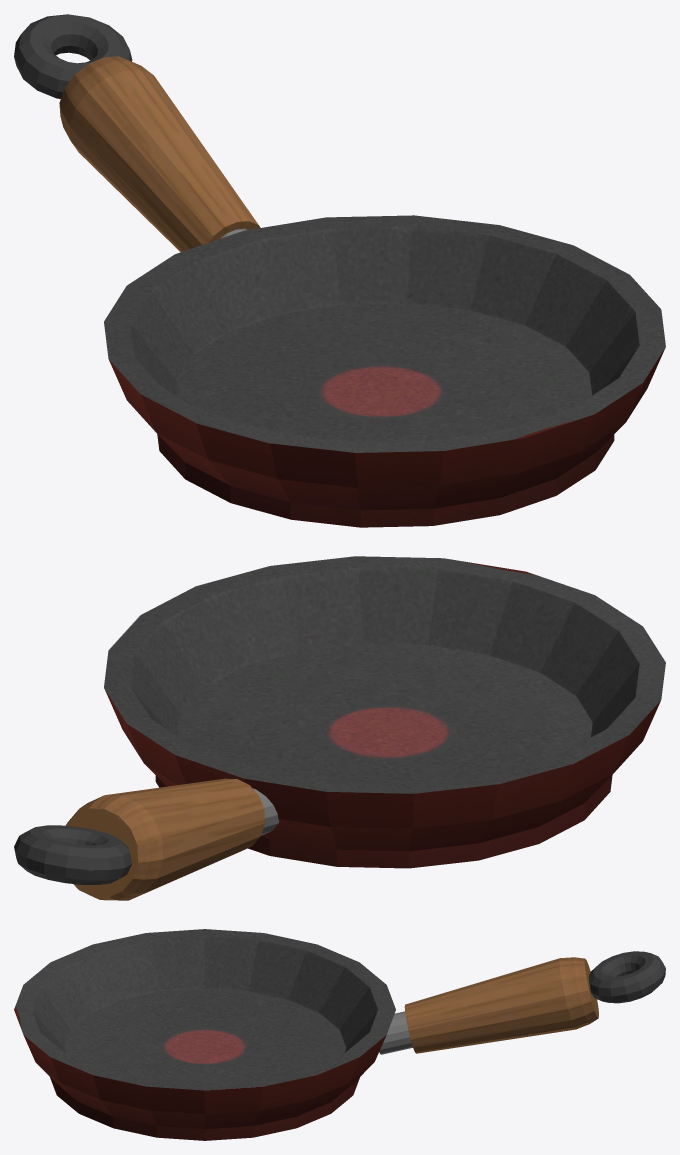
The model's file is FryingPan.obj.
3 views of the same model, one above another, from view 1: azimuth 30°, elevation 25°; view 2: azimuth 150°, elevation 25°; view 3: azimuth 270°, elevation 25° (orthographic). The views are drawn at different scales.
Parts seen in each view (by area): view 1: FryingPan_ncl1_1; view 2: FryingPan_ncl1_1; view 3: FryingPan_ncl1_1.
Boxes of the visible parts, left/top/right/bottom form: FryingPan_ncl1_1: left=14, top=14, right=665, bottom=527; FryingPan_ncl1_1: left=14, top=556, right=665, bottom=900; FryingPan_ncl1_1: left=14, top=929, right=665, bottom=1140.
Bounding box in the file's own units: 0.8817 × 0.295 × 1.5.
Materials: 1 (1 with a texture image).
